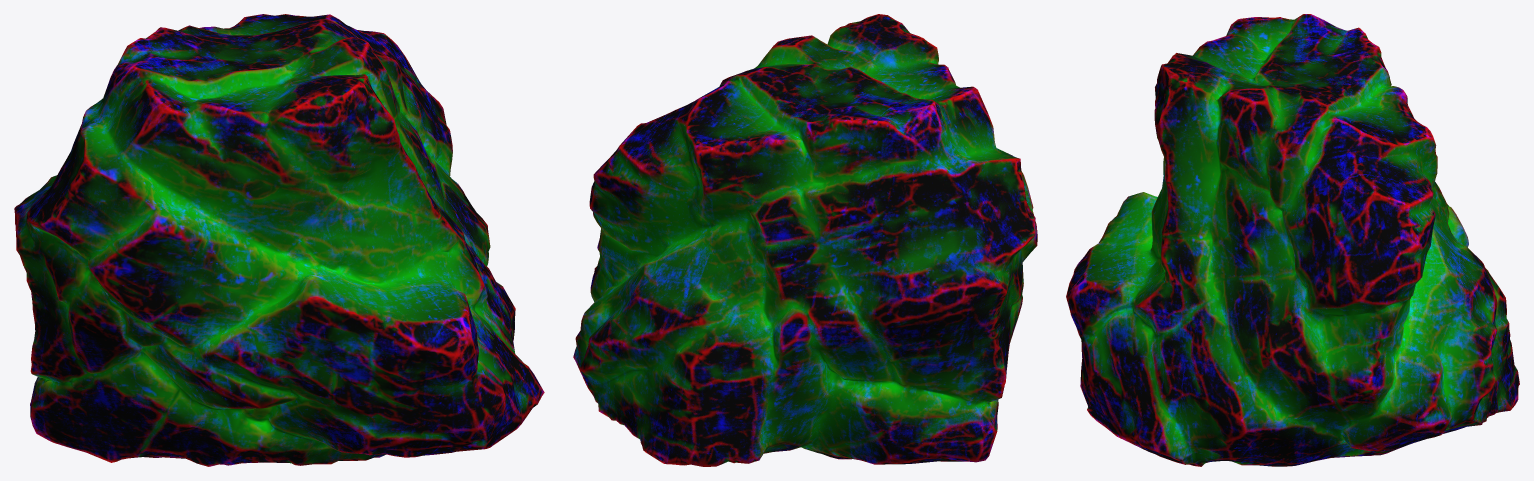
File: MSH_fwOF_Rock_L_02.fbx
The picture shows the model from 3 angles, left to right: view 1: azimuth 30°, elevation 25°; view 2: azimuth 150°, elevation 25°; view 3: azimuth 270°, elevation 25°; orthographic projection. The views are drawn at different scales.
Parts seen in each view (by area): view 1: MSH_fwOF_Rock_L_02_LOD0; view 2: MSH_fwOF_Rock_L_02_LOD0; view 3: MSH_fwOF_Rock_L_02_LOD0.
Boxes of the visible parts, bbox=[...] form: MSH_fwOF_Rock_L_02_LOD0: bbox=[14, 14, 544, 466]; MSH_fwOF_Rock_L_02_LOD0: bbox=[573, 14, 1037, 466]; MSH_fwOF_Rock_L_02_LOD0: bbox=[1066, 14, 1519, 466].
Size of what is drawn, in the model's own units: 9.36 by 8.11 by 9.34.
